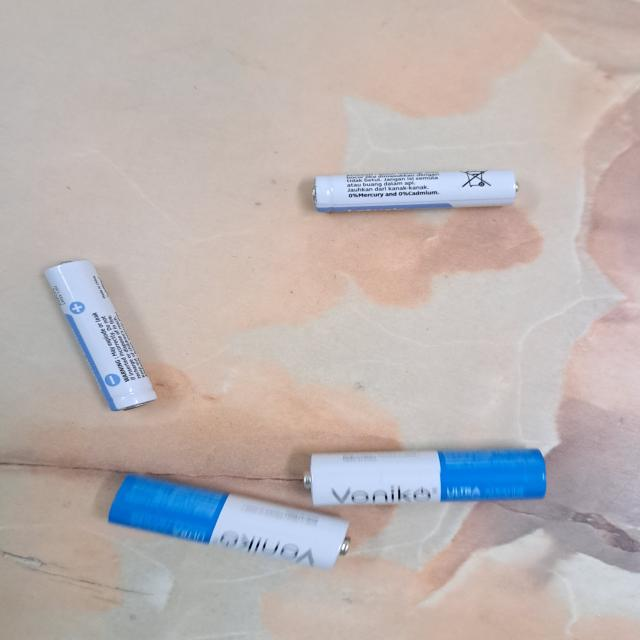battery: (108, 470, 353, 571), (42, 259, 160, 411), (302, 447, 550, 506), (308, 168, 523, 213)
